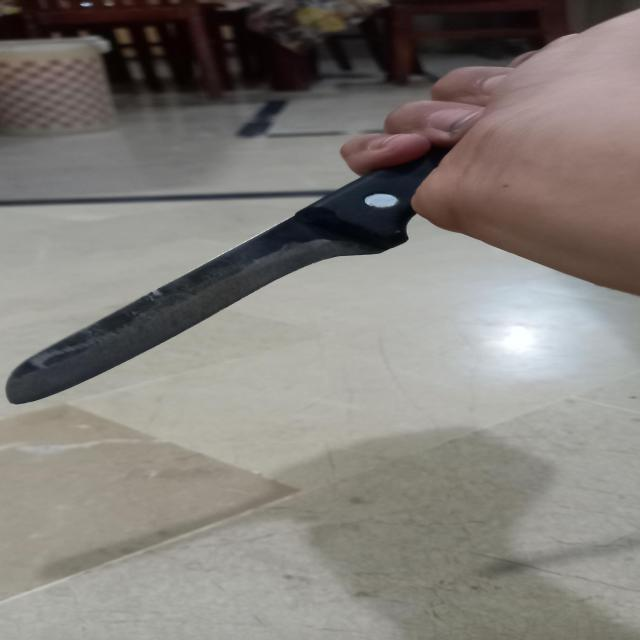Knife: (6, 141, 459, 409)
Person: (342, 10, 640, 297)
